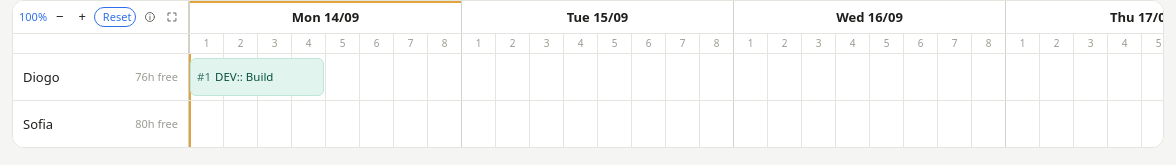
Scenario: SprintGrid › the zoom control steps the hour width and shows the percentage
expect the text "100%" is shown: met, box x1=19 y1=9 x2=47 y2=25
Click the button named "Zoom in" at {"x": 82, "y": 17}, box x1=72 y1=7 x2=92 y2=27
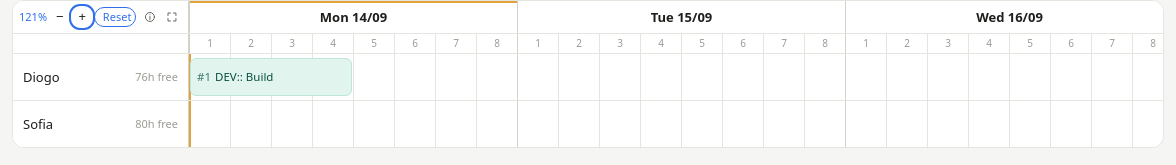
expect the text "100%" is gone: met
Click the button "Reset" at {"x": 115, "y": 17}, box x1=94 y1=7 x2=136 y2=26
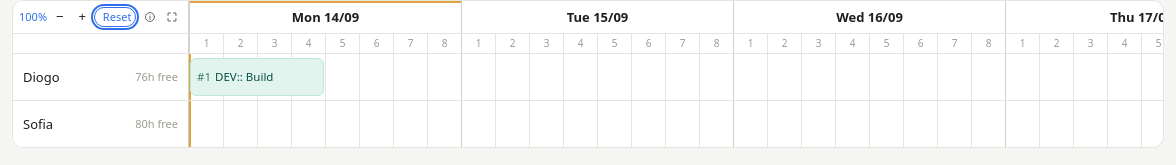
expect the text "100%" is shown: met, box x1=19 y1=9 x2=47 y2=25
